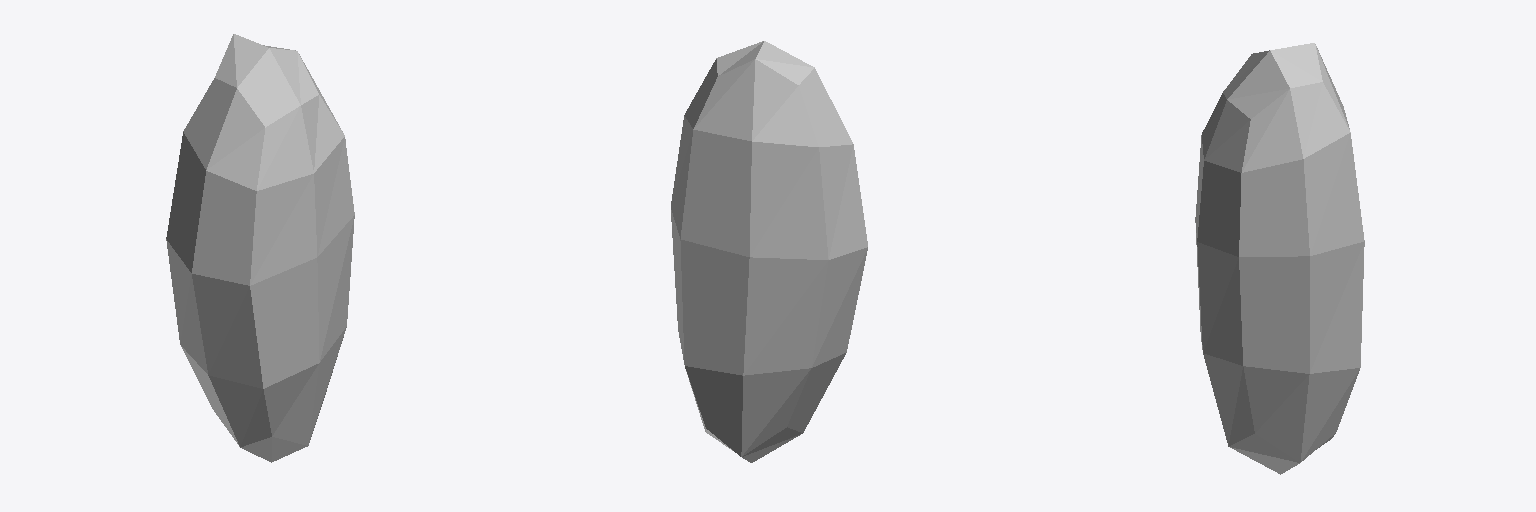
File: Rock04_lava.obj
3 views of the same model, side by side, from view 1: azimuth 30°, elevation 25°; view 2: azimuth 150°, elevation 25°; view 3: azimuth 270°, elevation 25° (orthographic).
Parts seen in each view (by area): view 1: Rock04_lava; view 2: Rock04_lava; view 3: Rock04_lava.
Part boxes in pixels (x1,y1,x2,y2): Rock04_lava: (166,34,354,462); Rock04_lava: (671,41,867,462); Rock04_lava: (1195,43,1364,474).
Bounding box in the file's own units: 94.39 × 231 × 84.04.